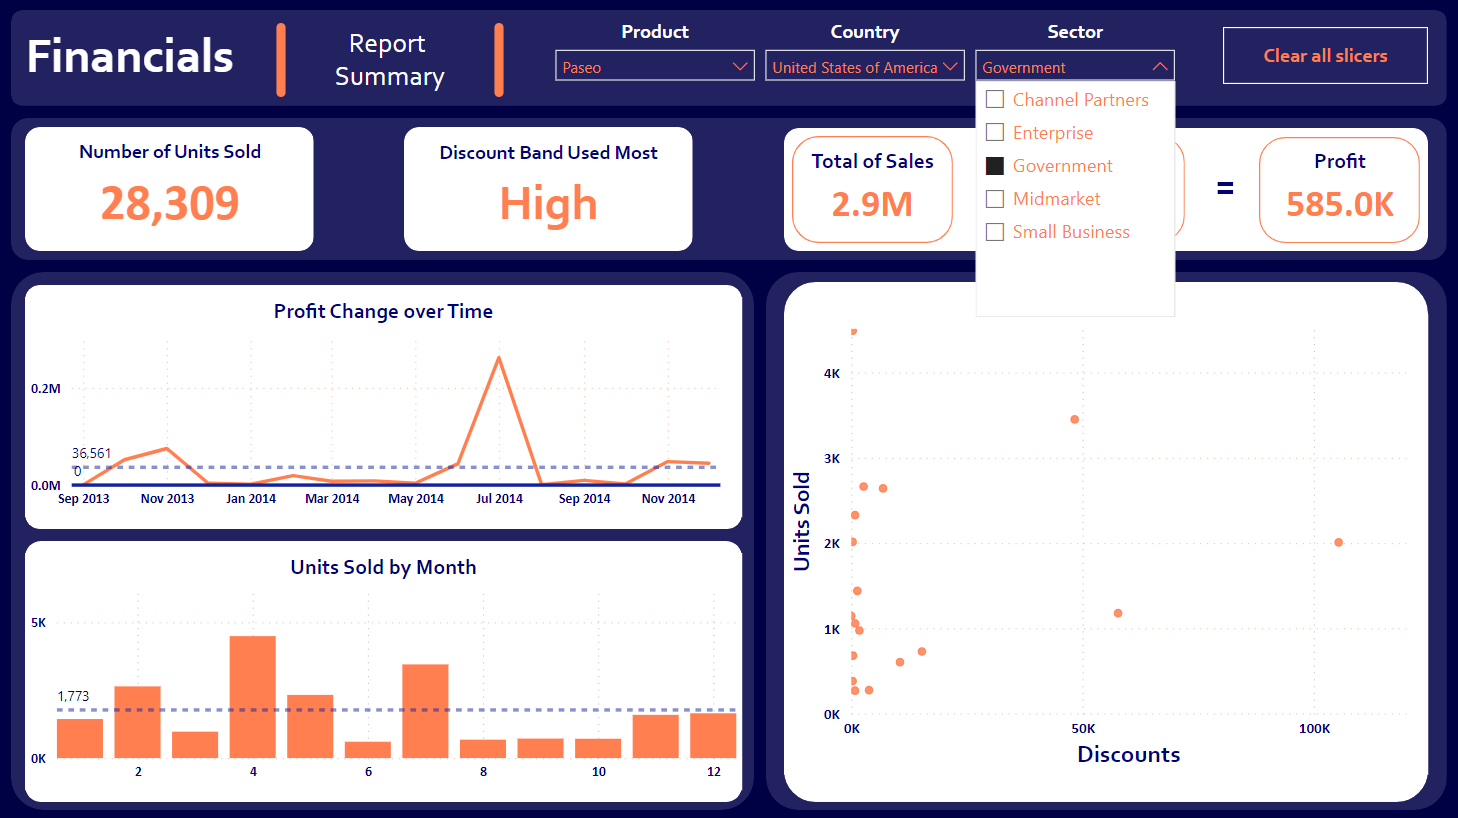

Layout of this report page (visuals, bound fields, positions):
{"tool":"powerbi","page":{"name":"Report Summary","canvas":[1280,720],"ordinal":0},"visuals":[{"type":"shape","box":[10.5,240.3,651.6,471.8],"z":1000},{"type":"shape","box":[672.6,240.3,597.2,471.8],"z":2000},{"type":"shape","box":[10.5,105.2,1259.3,124.5],"z":3000},{"type":"shape","box":[10.5,10.5,1259.3,84.2],"z":4000},{"type":"shape","box":[688.4,114,564.8,107.9],"z":5000},{"type":"shape","box":[355.2,113.1,253.4,108.7],"z":6000},{"type":"shape","box":[22.8,113.1,253.4,108.7],"z":7000},{"type":"shape","box":[688.4,249.1,564.8,456],"z":8000},{"type":"shape","box":[22.8,476.2,628.8,228.9],"z":9000},{"type":"shape","box":[22.8,251.7,628.8,214],"z":10000},{"type":"slicer","title":"Product","fields":{"Values":["financials.Product"]},"box":[478,18.4,194.7,70.2],"z":11000},{"type":"card","title":"Number of Units Sold","fields":{"Values":["Sum(financials.Units Sold)"]},"box":[35.1,123.7,229.8,86.8],"z":12000},{"type":"lineChart","title":"Profit Change over Time","fields":{"Y":["Sum(financials.Profit)"],"Category":["financials.Date.Variation.Date Hierarchy.Year","financials.Date.Variation.Date Hierarchy.Quarter","financials.Date.Variation.Date Hierarchy.Month","financials.Date.Variation.Date Hierarchy.Day"]},"box":[22.8,262.2,628.8,192.9],"z":13000},{"type":"clusteredColumnChart","title":"Units Sold by Month","fields":{"Category":["financials.Month Number"],"Y":["Avg(financials.Units Sold)"]},"box":[22.8,486.7,628.8,207.8],"z":14000},{"type":"card","title":"Total of Sales","fields":{"Values":["Sum(financials. Sales)"]},"box":[700.7,130.7,130.7,78.1],"z":15000},{"type":"card","title":"Total of COGS","fields":{"Values":["Sum(financials.COGS)"]},"box":[905,130.7,129.8,78.1],"z":16000},{"type":"card","title":"Profit","fields":{"Values":["Sum(financials.Profit)"]},"box":[1111.1,130.7,129.8,78.1],"z":17000},{"type":"card","title":"Discount Band Used Most","fields":{"Values":["financials.Top Discount Band for Card"]},"box":[366.6,124.5,230.6,87.7],"z":18000},{"type":"scatterChart","fields":{"X":["financials.Discounts"],"Y":["financials.Units Sold"]},"box":[688.4,277.1,564.8,404.3],"z":19000},{"type":"textbox","box":[18.4,19.3,210.5,63.1],"z":20000},{"type":"slicer","title":"Country","fields":{"Values":["financials.Country"]},"box":[662.1,18.4,194.7,70.2],"z":21000},{"type":"slicer","title":"Sector","fields":{"Values":["financials.Sector"]},"box":[846.3,18.4,194.7,70.2],"z":22000},{"type":"shape","box":[695.4,121,141.2,93.8],"z":23000},{"type":"textbox","box":[849.8,139.4,38.6,57],"z":24000},{"type":"textbox","box":[1054.1,139.4,42.1,57],"z":25000},{"type":"shape","box":[899.8,121,140.3,93],"z":26000},{"type":"shape","box":[1105,121.9,141.2,93],"z":27000},{"type":"actionButton","box":[1073.4,25.4,179.8,50],"z":28000},{"type":"shape","box":[210.5,21.9,73.7,64.9],"z":29000},{"type":"shape","box":[401.7,21.9,73.7,64.9],"z":30000},{"type":"textbox","box":[247.3,19.3,191.2,70.2],"z":31000}]}

Visuals, with their boxes in screenshot pixels (x1, y1, x2, y2), scaled from the page's 1280x720 canvas onto the 1458x818 screenshot:
shape: BBox(12, 273, 754, 809)
shape: BBox(766, 273, 1446, 809)
shape: BBox(12, 120, 1446, 261)
shape: BBox(12, 12, 1446, 108)
shape: BBox(784, 130, 1427, 252)
shape: BBox(405, 128, 693, 252)
shape: BBox(26, 128, 315, 252)
shape: BBox(784, 283, 1427, 801)
shape: BBox(26, 541, 742, 801)
shape: BBox(26, 286, 742, 529)
"Product" slicer: BBox(544, 21, 766, 101)
"Number of Units Sold" card: BBox(40, 141, 302, 239)
"Profit Change over Time" lineChart: BBox(26, 298, 742, 517)
"Units Sold by Month" clusteredColumnChart: BBox(26, 553, 742, 789)
"Total of Sales" card: BBox(798, 148, 947, 237)
"Total of COGS" card: BBox(1031, 148, 1179, 237)
"Profit" card: BBox(1266, 148, 1413, 237)
"Discount Band Used Most" card: BBox(418, 141, 680, 241)
scatterChart - financials.Discounts x financials.Units Sold: BBox(784, 315, 1427, 774)
textbox: BBox(21, 22, 261, 94)
"Country" slicer: BBox(754, 21, 976, 101)
"Sector" slicer: BBox(964, 21, 1186, 101)
shape: BBox(792, 137, 953, 244)
textbox: BBox(968, 158, 1012, 223)
textbox: BBox(1201, 158, 1249, 223)
shape: BBox(1025, 137, 1185, 243)
shape: BBox(1259, 138, 1419, 244)
actionButton: BBox(1223, 29, 1427, 86)
shape: BBox(240, 25, 324, 99)
shape: BBox(458, 25, 542, 99)
textbox: BBox(282, 22, 499, 102)
